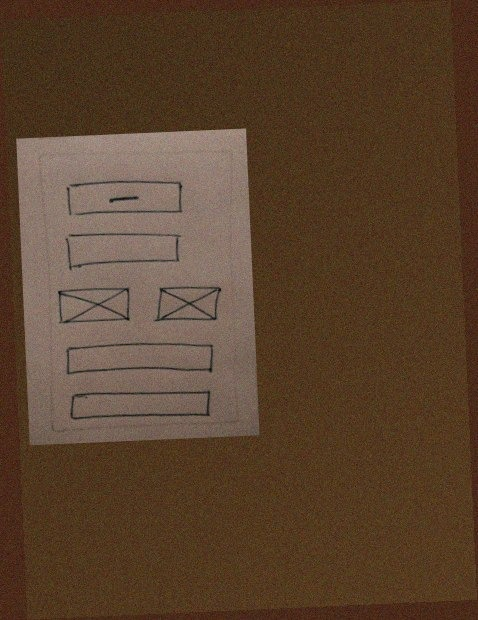button: (60, 173, 189, 223)
image: (56, 281, 133, 329), (150, 278, 227, 326)
text_input: (62, 336, 217, 382), (65, 384, 221, 425), (62, 226, 184, 274)
